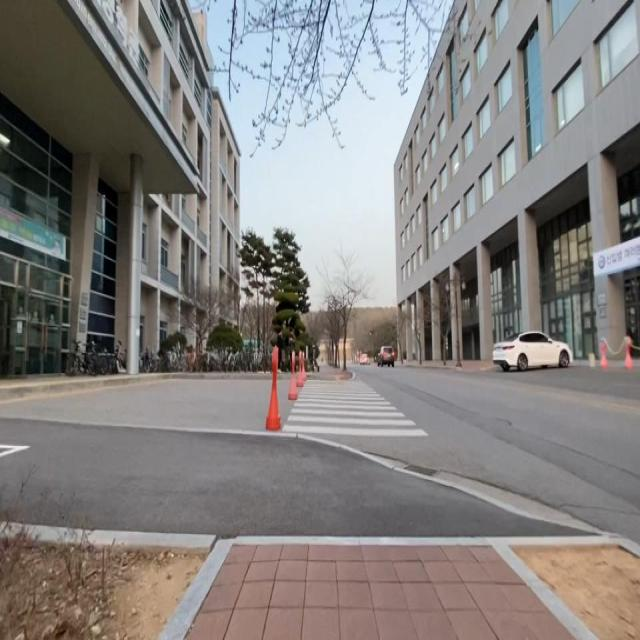sidewalk: (0, 420, 594, 640), (306, 366, 353, 382)
